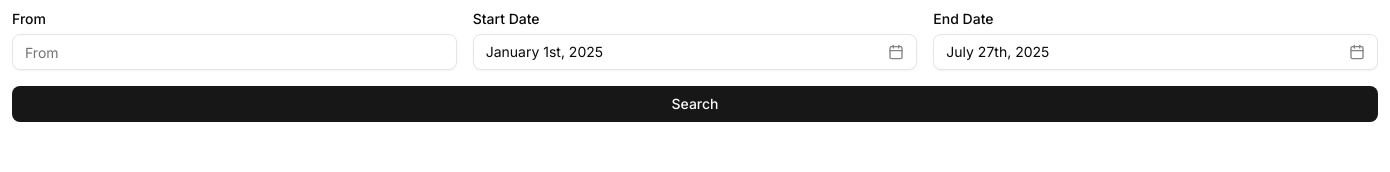
Scenario: SearchForm › should show validation on submitting empty form
Step 1. Click the button "Search" → x=695, y=104, box [12,86,1378,122]
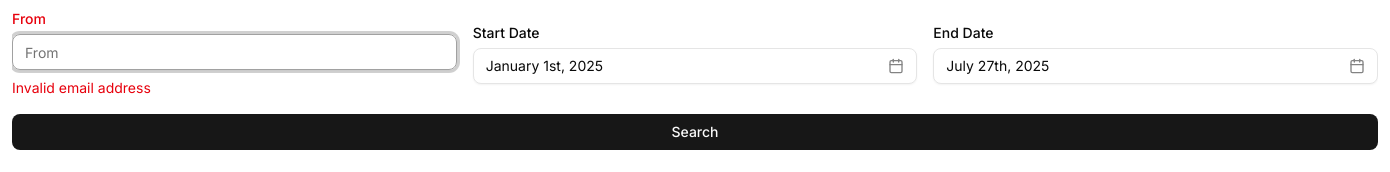
Expected: the text "Invalid email address" is shown, [12,79,151,96]
